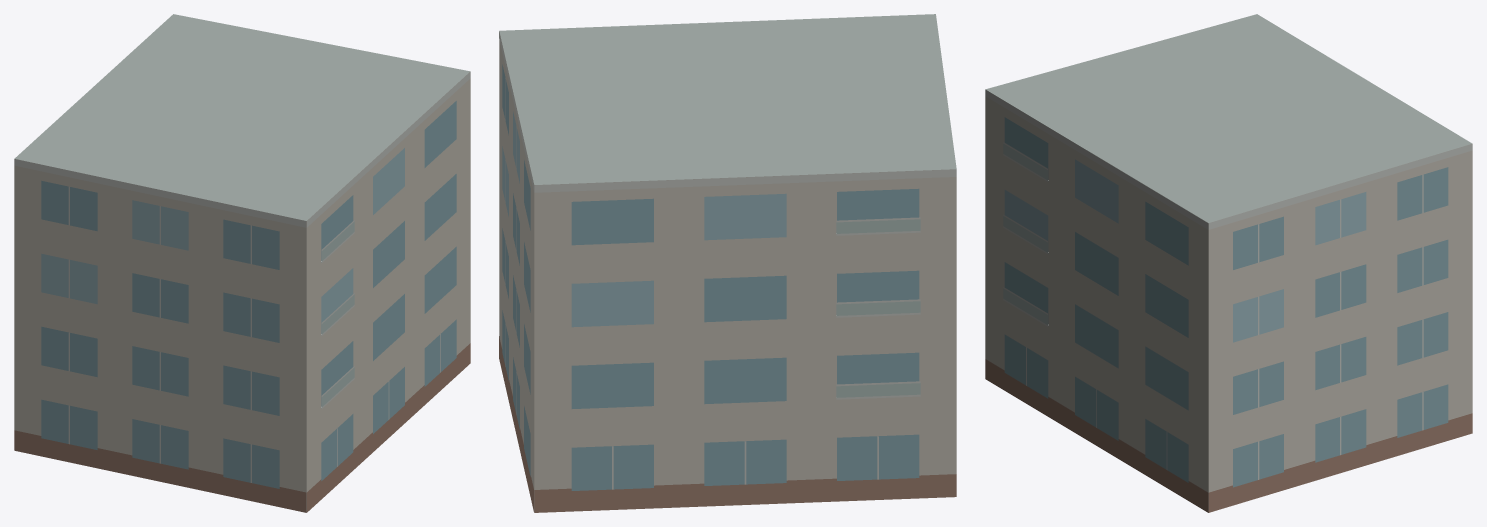
The model's file is survey-upis-32526477.glb.
3 renders of one model, left to right at view 1: azimuth 30°, elevation 25°; view 2: azimuth 150°, elevation 25°; view 3: azimuth 270°, elevation 25°, orthographic. The views are drawn at different scales.
Visible parts, largest first — view 1: survey-upis-32526477.tmp; view 2: survey-upis-32526477.tmp; view 3: survey-upis-32526477.tmp.
Part boxes in pixels (left/top/right/bottom): survey-upis-32526477.tmp: left=14, top=14, right=470, bottom=512; survey-upis-32526477.tmp: left=499, top=14, right=956, bottom=512; survey-upis-32526477.tmp: left=985, top=14, right=1472, bottom=512.
Size of the model in its own units: 16.11 by 10.4 by 15.86.
